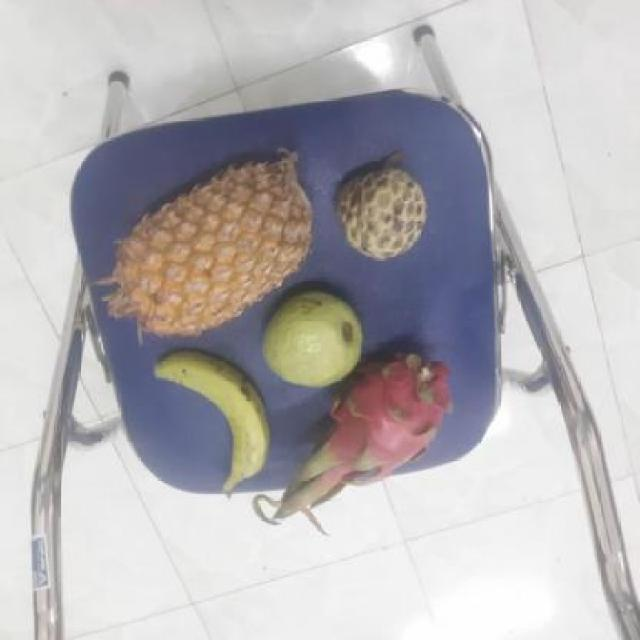banana: (152, 347, 272, 485)
dragon fruit: (292, 350, 443, 493)
guava: (256, 289, 362, 386)
pineapple: (103, 154, 309, 335)
sugar apple: (329, 162, 426, 258)
